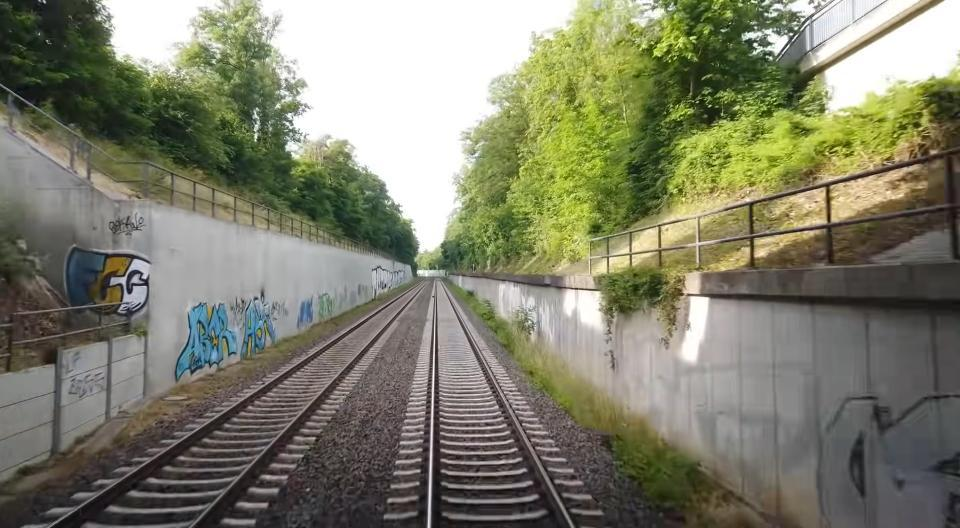Plant: (450, 282, 770, 528), (166, 280, 418, 402), (70, 396, 175, 457), (0, 470, 68, 490)
